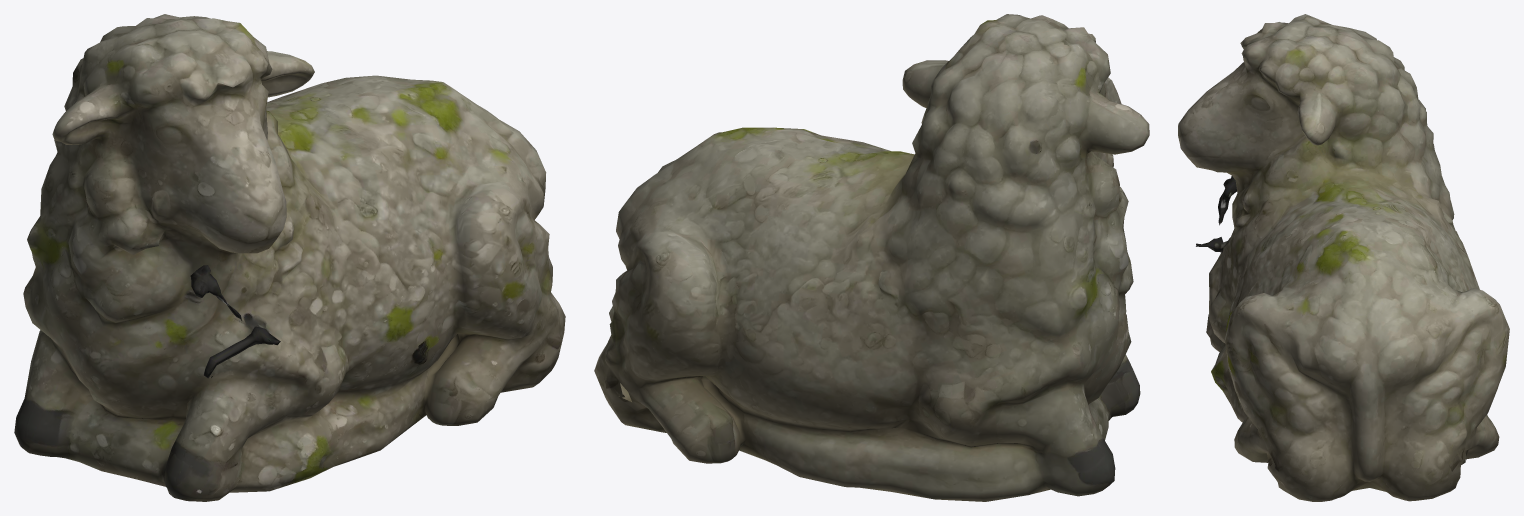
The model's file is stone_sheep_tripo.glb.
The picture shows the model from 3 angles, left to right: view 1: azimuth 30°, elevation 25°; view 2: azimuth 150°, elevation 25°; view 3: azimuth 270°, elevation 25°; orthographic projection. The views are drawn at different scales.
Visible parts, largest first — view 1: stone sheep statue 3d model; view 2: stone sheep statue 3d model; view 3: stone sheep statue 3d model.
Part boxes in pixels (x1,y1,x2,y2): stone sheep statue 3d model: (14,14,565,501); stone sheep statue 3d model: (594,14,1149,501); stone sheep statue 3d model: (1178,14,1509,501).
Bounding box in the file's own units: 0.9701 × 0.7916 × 0.7015.
1 material, 1 textured.
